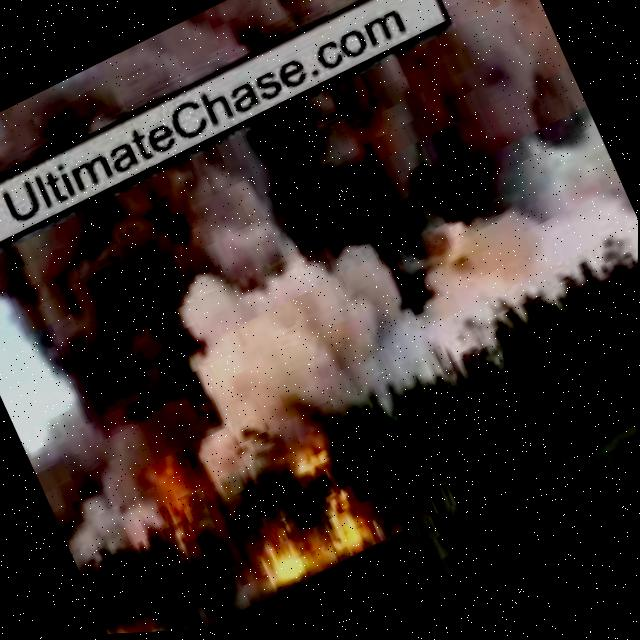Fire: (231, 476, 386, 603), (252, 476, 386, 593), (136, 439, 225, 554), (137, 443, 213, 540), (283, 435, 342, 489), (102, 603, 157, 636), (108, 621, 149, 635)
Smoke: (0, 0, 640, 528), (0, 0, 507, 196), (18, 398, 155, 575)
